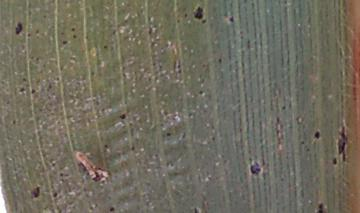tarspot: (335, 118, 350, 164), (247, 159, 264, 180), (192, 4, 207, 25), (314, 199, 329, 213), (311, 127, 323, 142), (30, 185, 42, 200), (13, 20, 24, 36), (118, 112, 129, 122), (175, 62, 183, 75), (216, 56, 225, 67), (165, 129, 173, 141), (18, 86, 27, 96), (228, 14, 236, 24), (61, 38, 71, 46), (192, 206, 203, 213), (331, 157, 338, 167), (107, 206, 117, 213), (30, 88, 38, 96), (280, 104, 288, 111), (102, 142, 109, 150), (198, 88, 205, 95), (52, 191, 58, 199), (71, 34, 79, 40), (130, 145, 136, 151), (71, 26, 76, 33), (22, 78, 29, 82)
